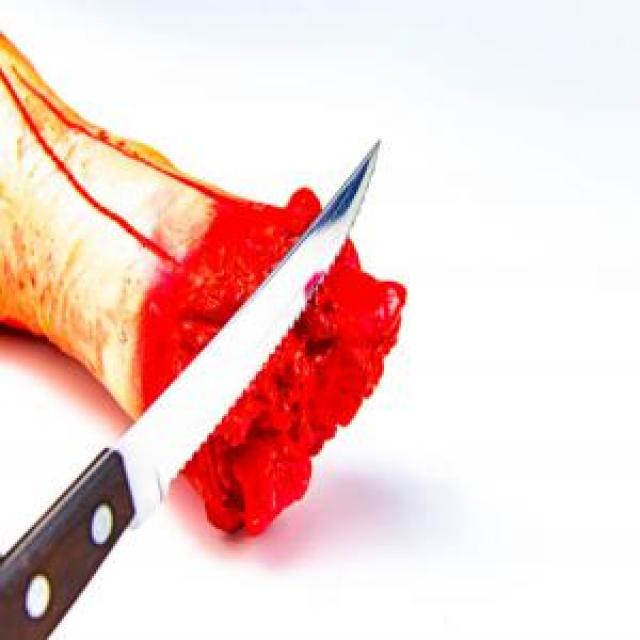knife: (0, 134, 382, 638)
